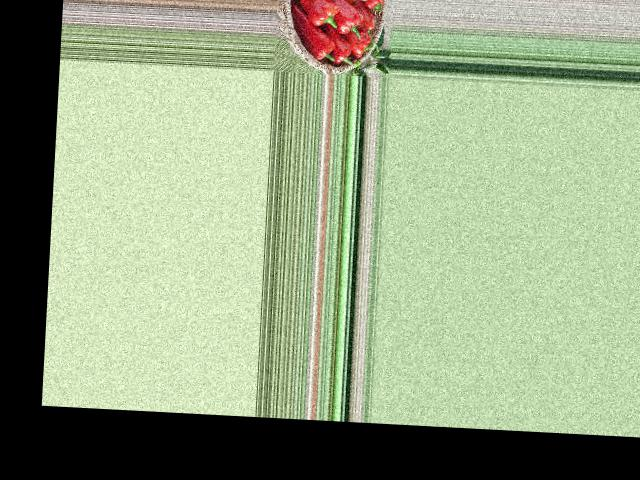bell_pepper: (330, 37, 355, 68)
